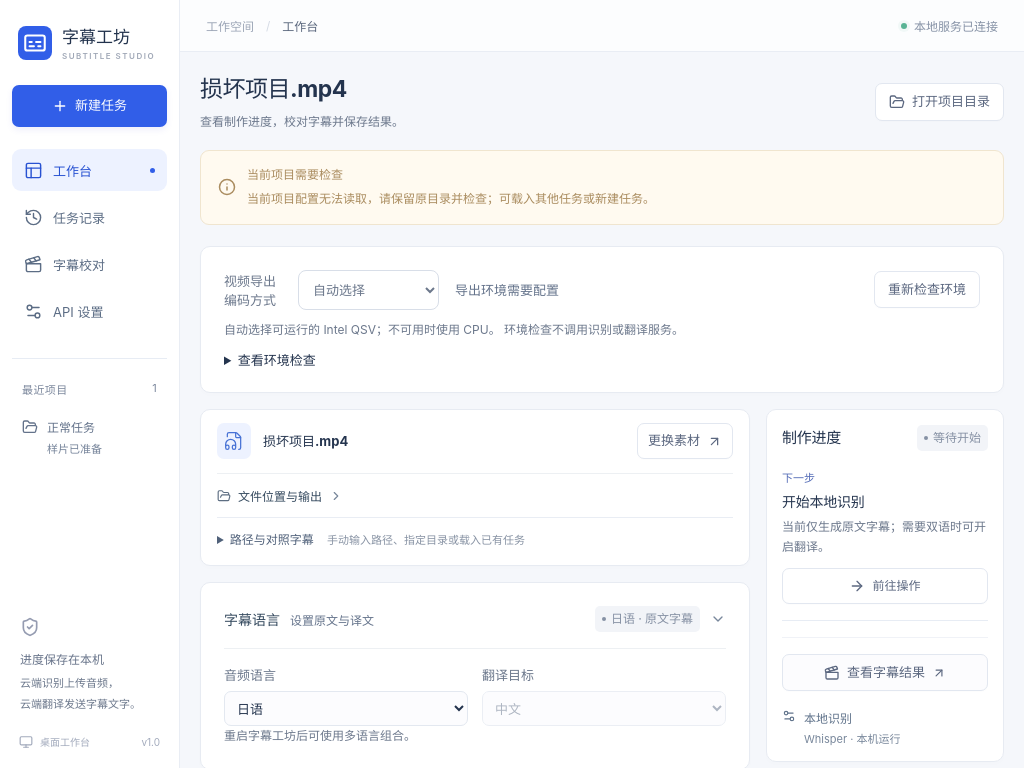
recoverable project configuration errors › shows the project problem while connected and clears it after loading a healthy task
The image size is (1024, 768).
Expected: the text "本地服务已连接" is shown, left=901, top=17, right=998, bottom=34
Expected: the text "当前项目配置无法读取，请保留原目录并检查；可载入其他任务或新建任务。" is shown, left=247, top=191, right=655, bottom=206
Click the button with aria-label "载入任务 正常任务".
click(90, 437)  # box left=12, top=407, right=167, bottom=467
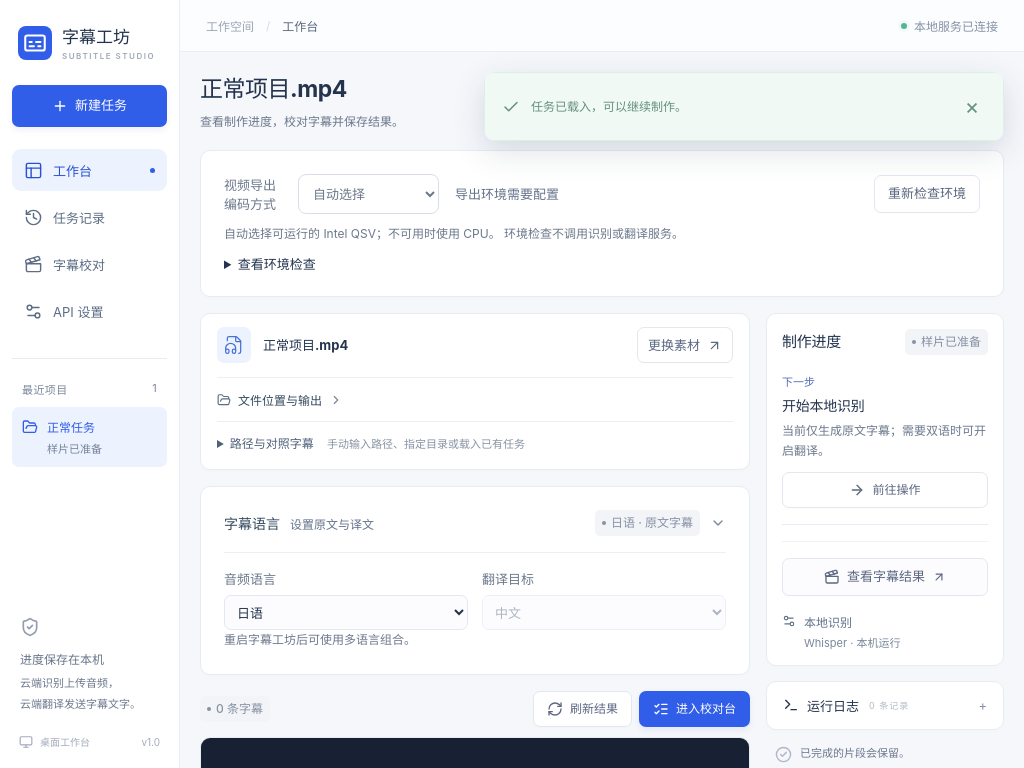
Now the 1st heading "正常项目.mp4" is shown, box left=200, top=75, right=347, bottom=103
Now the text "当前项目配置无法读取，请保留原目录并检查；可载入其他任务或新建任务。" is gone
Now the text "当前项目需要检查" is gone
